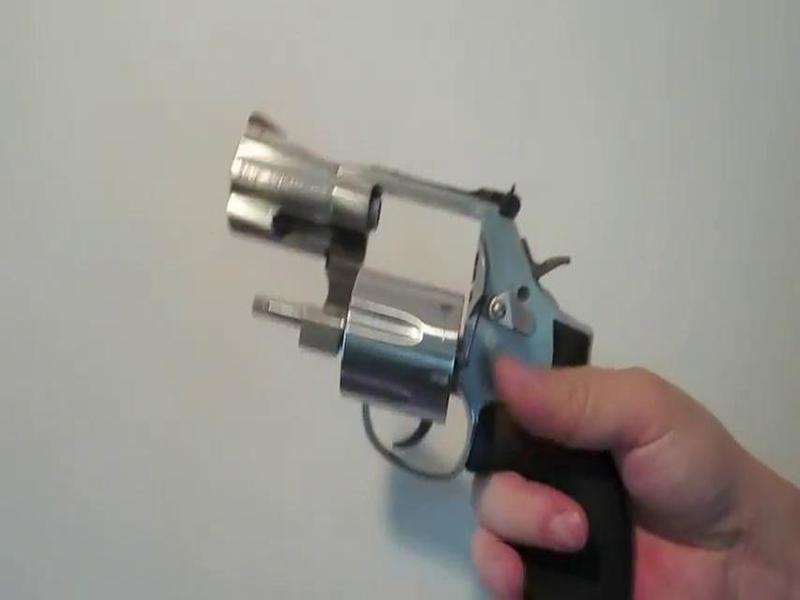Revolver: (218, 89, 691, 600)
